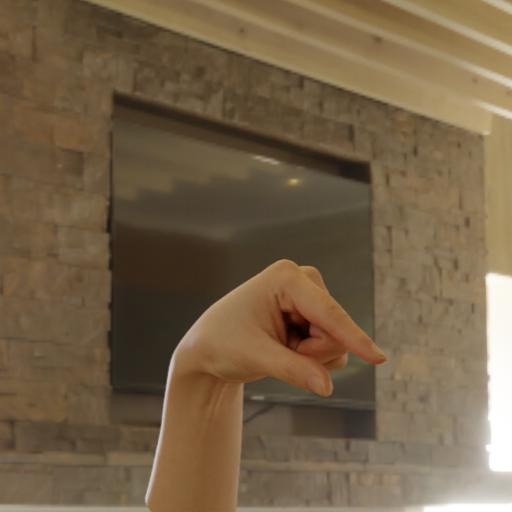Q: (157, 255, 392, 460)
